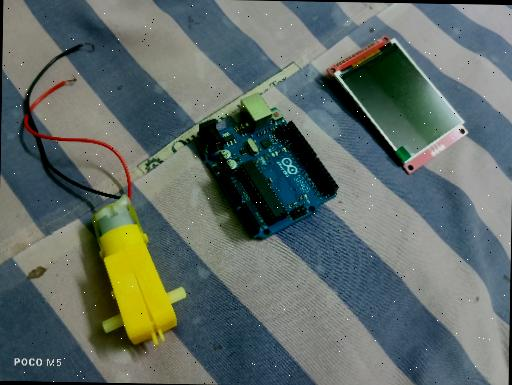Arduino: (192, 91, 340, 241)
Display: (324, 32, 470, 176)
Motor: (88, 193, 189, 348)
